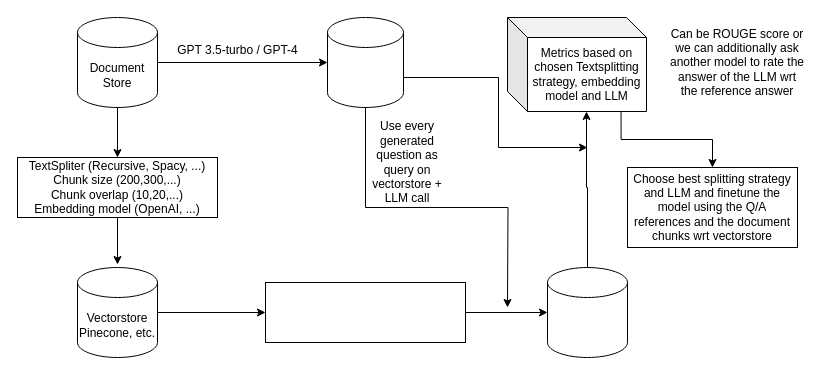
Image size: 825x375. Some labels were removed from this diagram. The shapes that lost their labels are listed below. From the top down, each one's box as (x1, y1, x2, y2) in pixels, then its label:
(326, 16, 404, 108): generated Question- Answer Pairs
(264, 282, 466, 342): Q-A LLM chat model OpenAI (GPT3.5-turbo), LLama 2 70b, etc...
(546, 266, 628, 358): LLM(query, vectorstore) Gen. answers
